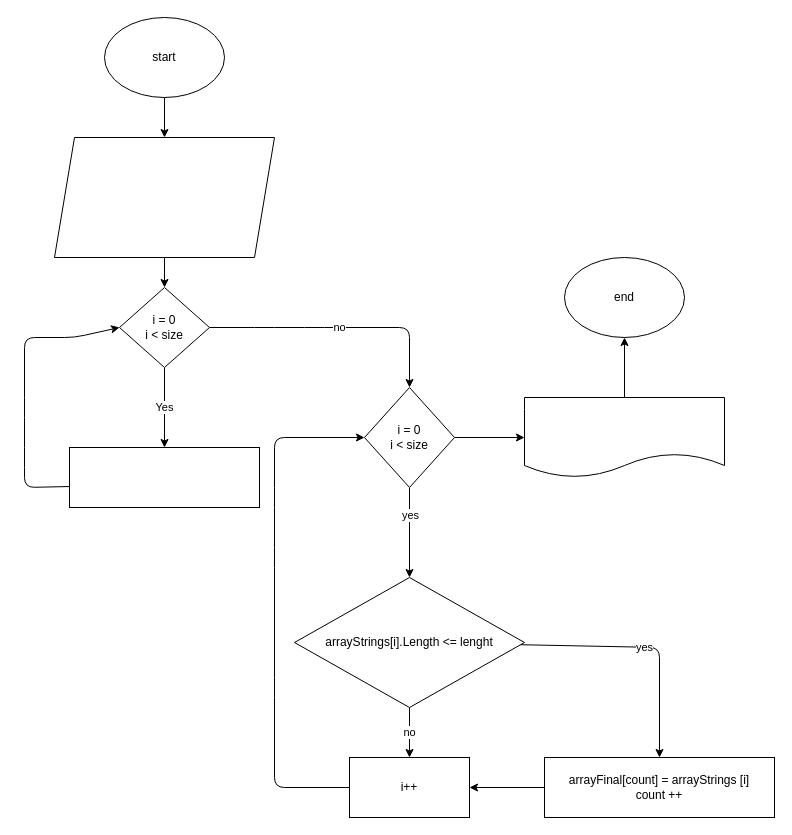
Image size: 792x835. Some labels were removed from this diagram. Each missing label, with the centre of its shape:
"Printarray(arrayfinal)" goes at point 624,437.
"size arrayStrings[ size ] arrayFinal[ size ] lenght = 3 count = 0 symbol" goes at point 164,197.
"symbol = Console.ReadLine() arrayStrings[i] = symbol i++" goes at point 164,477.
